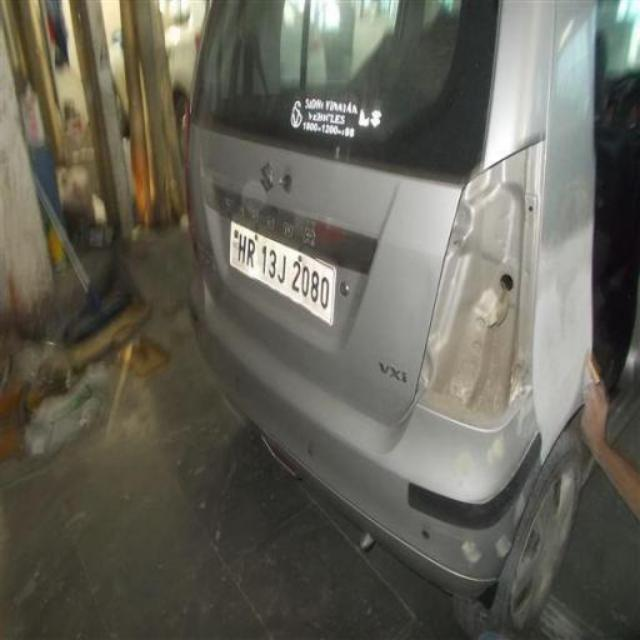dent: (533, 244, 592, 468)
lamp broken: (415, 140, 544, 428)
